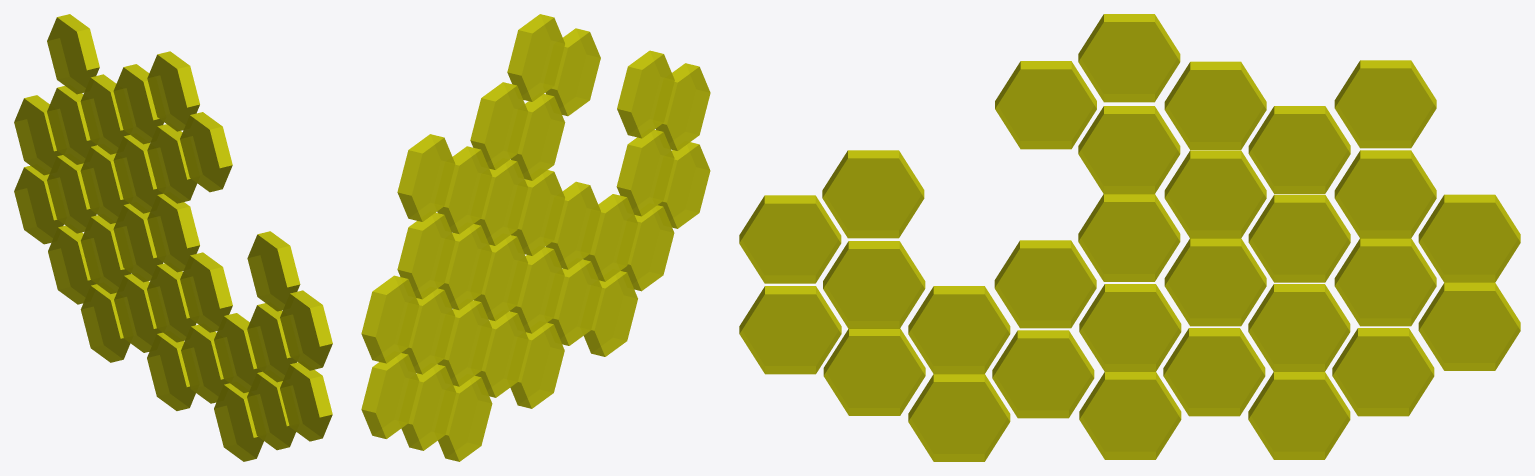
File: wall.fbx
3 views of the same model, side by side, from view 1: azimuth 30°, elevation 25°; view 2: azimuth 150°, elevation 25°; view 3: azimuth 270°, elevation 25° (orthographic). The views are drawn at different scales.
Parts seen in each view (by area): view 1: pCylinder29, pCylinder4, pCylinder22, pCylinder19, pCylinder26, pCylinder25, pCylinder28, pCylinder15, pCylinder23, pCylinder14, pCylinder17, pCylinder12 (+17 smaller); view 2: pCylinder7, pCylinder28, pCylinder26, pCylinder25, pCylinder27, pCylinder23, pCylinder20, pCylinder5, pCylinder10, pCylinder24, pCylinder16, pCylinder14 (+17 smaller); view 3: pCylinder13, pCylinder29, pCylinder2, pCylinder3, pCylinder10, pCylinder16, pCylinder19, pCylinder23, pCylinder25, pCylinder1, pCylinder6, pCylinder7 (+17 smaller).
Boxes of the visible parts, box(x1,y1,x2,y2) form: pCylinder29: box(280, 290, 332, 370); pCylinder4: box(180, 112, 232, 192); pCylinder22: box(280, 362, 332, 441); pCylinder19: box(180, 252, 232, 332); pCylinder26: box(47, 14, 99, 94); pCylinder25: box(147, 51, 199, 131); pCylinder28: box(247, 231, 300, 311); pCylinder15: box(147, 193, 199, 272); pCylinder23: box(113, 64, 164, 144); pCylinder14: box(147, 124, 197, 203); pCylinder17: box(214, 383, 263, 461); pCylinder12: box(147, 332, 195, 410); pCylinder7: box(361, 275, 419, 363); pCylinder28: box(617, 50, 674, 138); pCylinder26: box(397, 134, 455, 221); pCylinder25: box(507, 14, 564, 101); pCylinder27: box(361, 353, 419, 438); pCylinder23: box(470, 82, 527, 169); pCylinder20: box(616, 129, 674, 216); pCylinder5: box(397, 212, 455, 299); pCylinder10: box(401, 364, 456, 450); pCylinder24: box(437, 146, 491, 234); pCylinder16: box(583, 194, 637, 281); pCylinder14: box(510, 94, 565, 180); pCylinder13: box(1163, 328, 1265, 416); pCylinder29: box(739, 195, 841, 283); pCylinder2: box(1164, 238, 1266, 326); pCylinder3: box(1248, 194, 1350, 282); pCylinder10: box(1332, 328, 1434, 416); pCylinder16: box(908, 286, 1010, 374); pCylinder19: box(994, 240, 1096, 328); pCylinder23: box(1164, 61, 1266, 149); pCylinder25: box(1078, 14, 1180, 102); pCylinder1: box(1164, 150, 1266, 238); pCylinder6: box(1334, 238, 1436, 326); pCylinder7: box(1418, 194, 1520, 282).
Bounding box in the file's own units: 0.5618 × 14.16 × 22.81.
